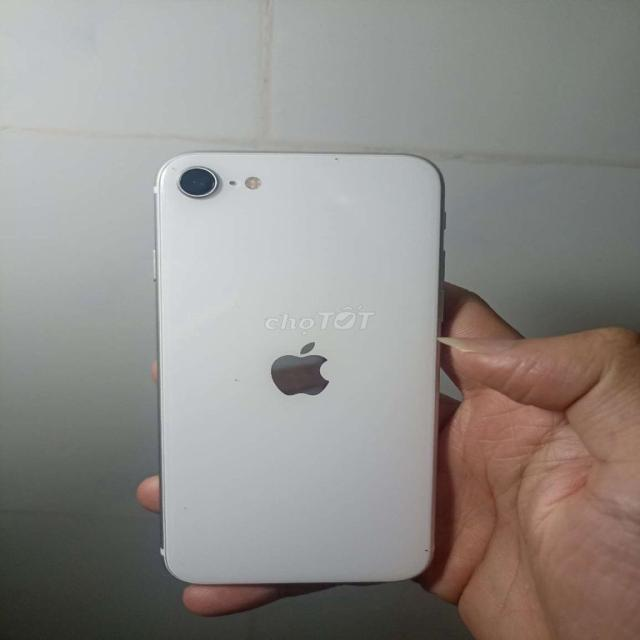gen_7_8: (140, 146, 467, 591)
scratch: (224, 375, 245, 386), (420, 540, 433, 554), (328, 153, 344, 163), (164, 161, 177, 172)
